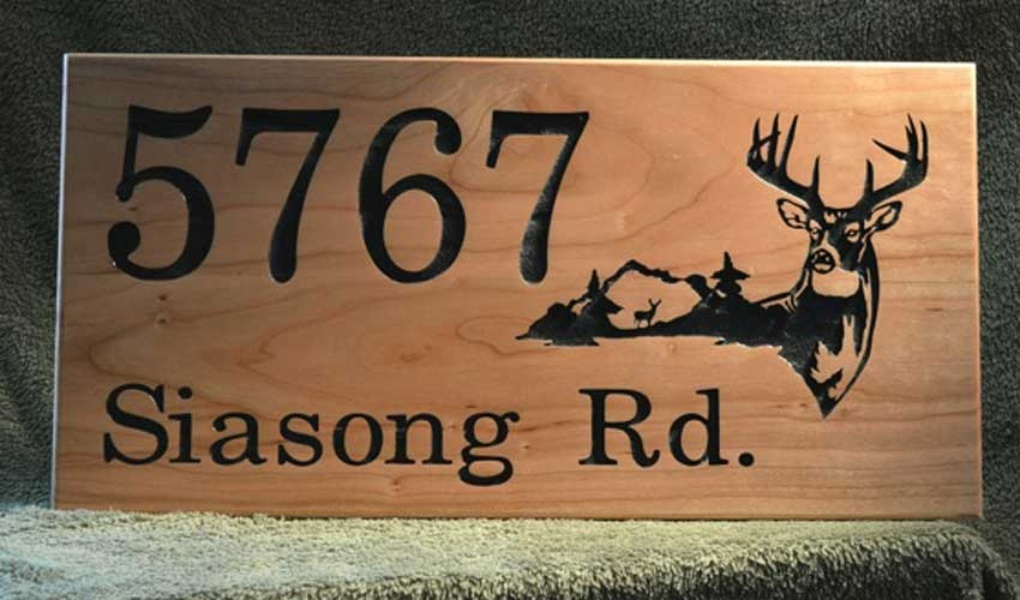text: (577, 100, 593, 286), (129, 100, 144, 286), (145, 100, 160, 286), (161, 100, 176, 286), (177, 100, 192, 286), (193, 100, 208, 286), (209, 100, 224, 286), (225, 100, 240, 286), (241, 100, 256, 286), (257, 100, 272, 286), (273, 100, 288, 286), (289, 100, 304, 286), (305, 100, 320, 286), (321, 100, 336, 286), (337, 100, 352, 286), (353, 100, 368, 286), (369, 100, 384, 286), (385, 100, 400, 286), (401, 100, 416, 286), (417, 100, 432, 286), (433, 100, 448, 286), (449, 100, 464, 286), (465, 100, 480, 286), (481, 100, 496, 286), (497, 100, 512, 286), (513, 100, 528, 286), (529, 100, 544, 286), (545, 100, 560, 286), (561, 100, 576, 286), (119, 100, 128, 286), (113, 379, 128, 490), (129, 379, 144, 490), (145, 379, 160, 490), (161, 379, 176, 490), (177, 379, 192, 490), (193, 379, 208, 490), (209, 379, 224, 490), (225, 379, 240, 490), (241, 379, 256, 490), (257, 379, 272, 490), (273, 379, 288, 490), (289, 379, 304, 490), (305, 379, 320, 490), (321, 379, 336, 490), (337, 379, 352, 490), (353, 379, 368, 490), (369, 379, 384, 490), (385, 379, 400, 490), (401, 379, 416, 490), (417, 379, 432, 490), (433, 379, 448, 490), (449, 379, 464, 490), (465, 379, 480, 490), (481, 379, 496, 490), (497, 379, 512, 490), (593, 383, 608, 470), (609, 383, 624, 470), (625, 383, 640, 470), (641, 383, 656, 470), (657, 383, 672, 470), (673, 383, 688, 470), (689, 383, 704, 470), (705, 383, 720, 470), (721, 383, 736, 470), (737, 383, 752, 470), (578, 383, 592, 470), (513, 379, 523, 490), (104, 379, 112, 490), (753, 383, 759, 470)
